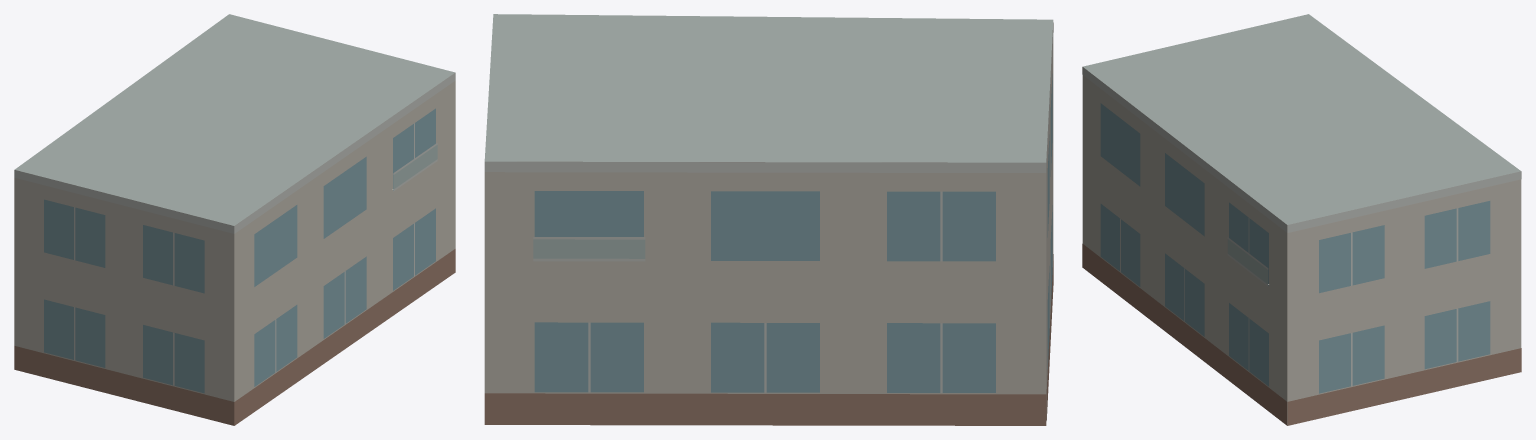
File: survey-upis-32881525.glb
3 views of the same model, side by side, from view 1: azimuth 30°, elevation 25°; view 2: azimuth 150°, elevation 25°; view 3: azimuth 270°, elevation 25° (orthographic). The views are drawn at different scales.
Visible parts, largest first — view 1: survey-upis-32881525.tmp; view 2: survey-upis-32881525.tmp; view 3: survey-upis-32881525.tmp.
Part boxes in pixels (bbox=[...]): survey-upis-32881525.tmp: bbox=[14, 14, 455, 425]; survey-upis-32881525.tmp: bbox=[484, 14, 1053, 425]; survey-upis-32881525.tmp: bbox=[1082, 14, 1521, 425].
Size of the model in its own units: 13.76 by 6.1 by 12.09.
